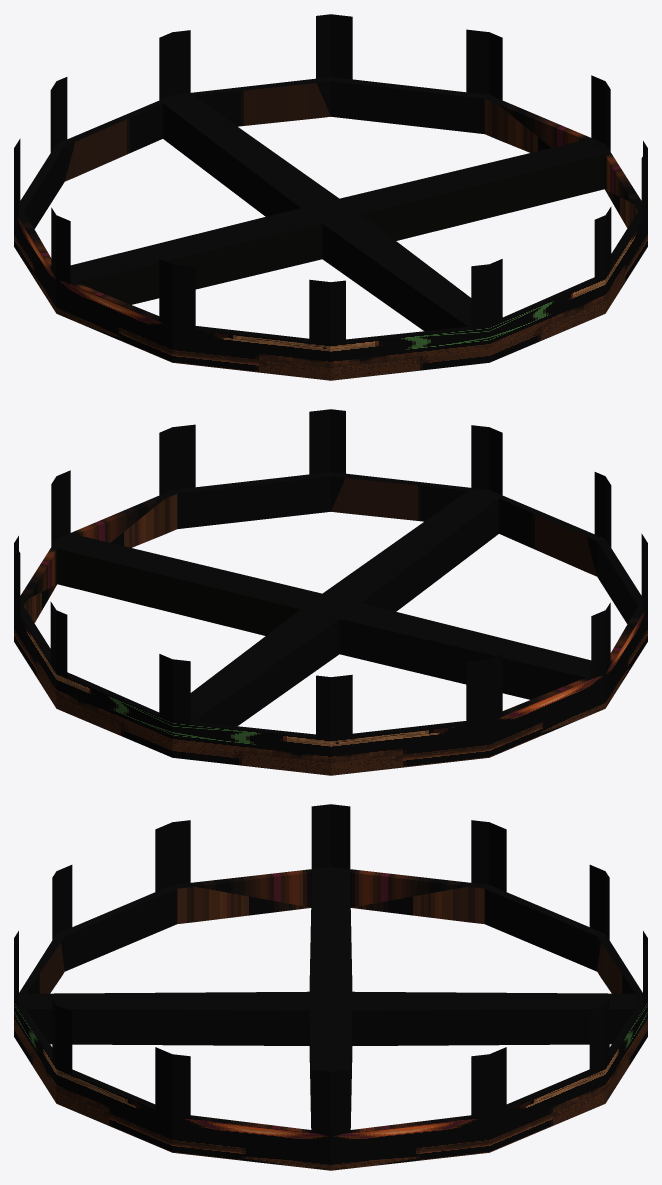
File: tavern_chandelier.glb
3 views of the same model, one above another, from view 1: azimuth 30°, elevation 25°; view 2: azimuth 150°, elevation 25°; view 3: azimuth 270°, elevation 25° (orthographic).
Parts seen in each view (by area): view 1: tavern_chandelier; view 2: tavern_chandelier; view 3: tavern_chandelier.
Part boxes in pixels (x1,y1,x2,y2): tavern_chandelier: (14, 14, 647, 380); tavern_chandelier: (14, 409, 647, 775); tavern_chandelier: (14, 804, 647, 1170).
Size of the model in its own units: 2.65 by 0.455 by 2.65.
Materials: 1 (1 with a texture image).
